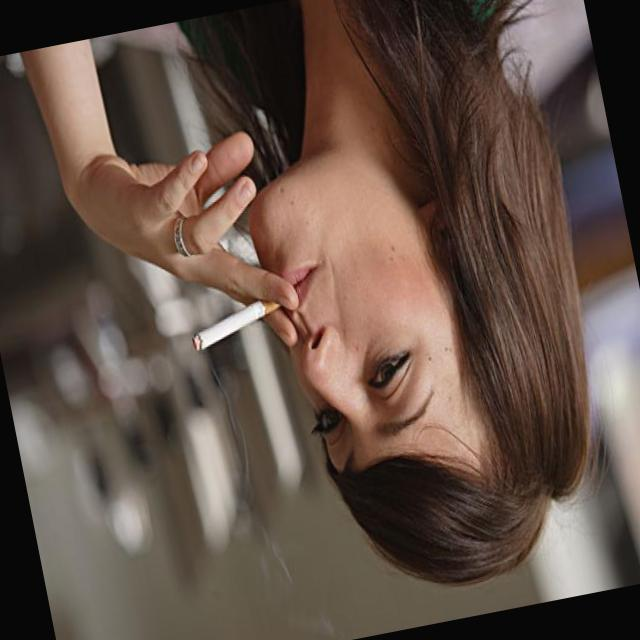smoke: (186, 292, 298, 362)
